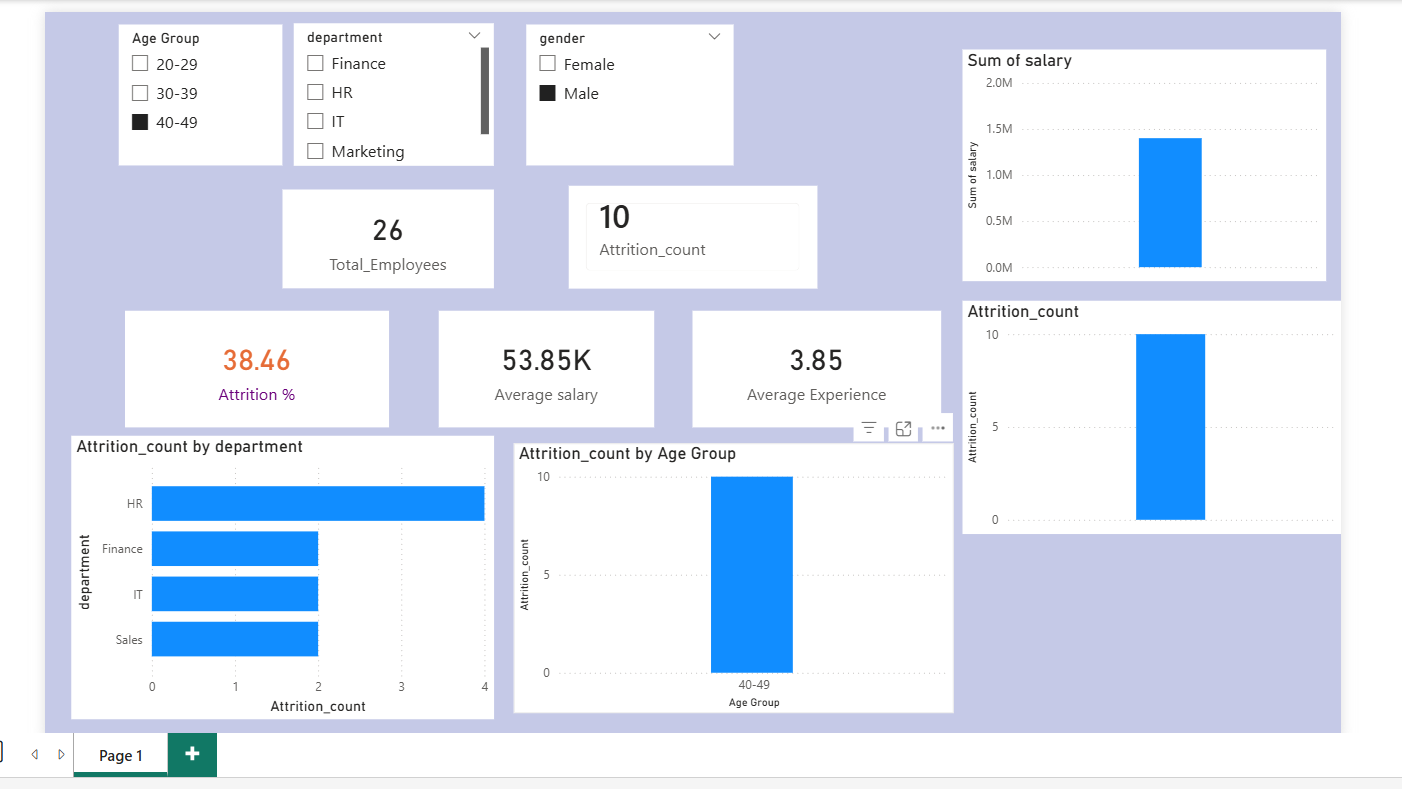

The dashboard page shown, as its layout file describes it:
{"tool":"powerbi","page":{"name":"Page 1","canvas":[1280,720],"ordinal":0},"visuals":[{"type":"card","fields":{"Values":["employee_attrition.Total_Employees"]},"box":[0,138.8,197.5,130],"z":0},{"type":"cardVisual","fields":{"Data":["employee_attrition.Attrition_count"]},"box":[212.5,156.2,193.8,112.5],"z":1},{"type":"card","fields":{"Values":["employee_attrition.Attrition %"]},"box":[443.8,168.8,210,87.5],"z":2},{"type":"card","fields":{"Values":["employee_attrition.Average salary"]},"box":[0,285,212.5,116.2],"z":3},{"type":"card","fields":{"Values":["employee_attrition.Average Experience"]},"box":[228.8,298.8,246.2,102.5],"z":4},{"type":"clusteredBarChart","fields":{"Category":["employee_attrition.department"],"Y":["employee_attrition.Attrition_count"]},"box":[56.2,515,312.5,150],"z":5},{"type":"columnChart","fields":{"Category":["employee_attrition.Age Group"],"Y":["employee_attrition.Attrition_count"]},"box":[406.2,501.2,312.5,150],"z":6},{"type":"slicer","fields":{"Values":["employee_attrition.department"]},"box":[163.8,0,197.5,138.8],"z":8},{"type":"slicer","fields":{"Values":["employee_attrition.gender"]},"box":[430,0,171.2,102.5],"z":9},{"type":"slicer","fields":{"Values":["employee_attrition.Age Group"]},"box":[0,0,137.5,115],"z":10},{"type":"columnChart","fields":{"Y":["employee_attrition.Attrition_count"]},"box":[790,317.5,290,150],"z":11},{"type":"clusteredColumnChart","fields":{"Y":["Sum(employee_attrition.salary)"]},"box":[777.5,63.8,290,150],"z":12}]}

Visuals, with their boxes on the page's 1280x720 design canvas (x1, y1, x2, y2). These are canvas units, not pixel positions in the 1402x789 screenshot, which may show the page scaled, cropped or inside an application window:
card - employee_attrition.Total_Employees: [x1=0, y1=139, x2=198, y2=269]
cardVisual - employee_attrition.Attrition_count: [x1=212, y1=156, x2=406, y2=269]
card - employee_attrition.Attrition %: [x1=444, y1=169, x2=654, y2=256]
card - employee_attrition.Average salary: [x1=0, y1=285, x2=212, y2=401]
card - employee_attrition.Average Experience: [x1=229, y1=299, x2=475, y2=401]
clusteredBarChart - employee_attrition.department x employee_attrition.Attrition_count: [x1=56, y1=515, x2=369, y2=665]
columnChart - employee_attrition.Age Group x employee_attrition.Attrition_count: [x1=406, y1=501, x2=719, y2=651]
slicer - employee_attrition.department: [x1=164, y1=0, x2=361, y2=139]
slicer - employee_attrition.gender: [x1=430, y1=0, x2=601, y2=102]
slicer - employee_attrition.Age Group: [x1=0, y1=0, x2=138, y2=115]
columnChart - employee_attrition.Attrition_count: [x1=790, y1=318, x2=1080, y2=468]
clusteredColumnChart - Sum(employee_attrition.salary): [x1=778, y1=64, x2=1068, y2=214]
